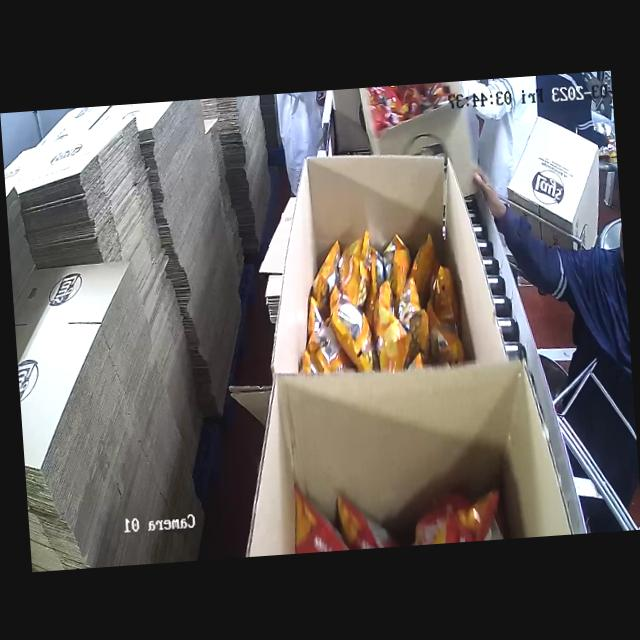cheese: (297, 214, 454, 371)
masala: (307, 432, 508, 551)
